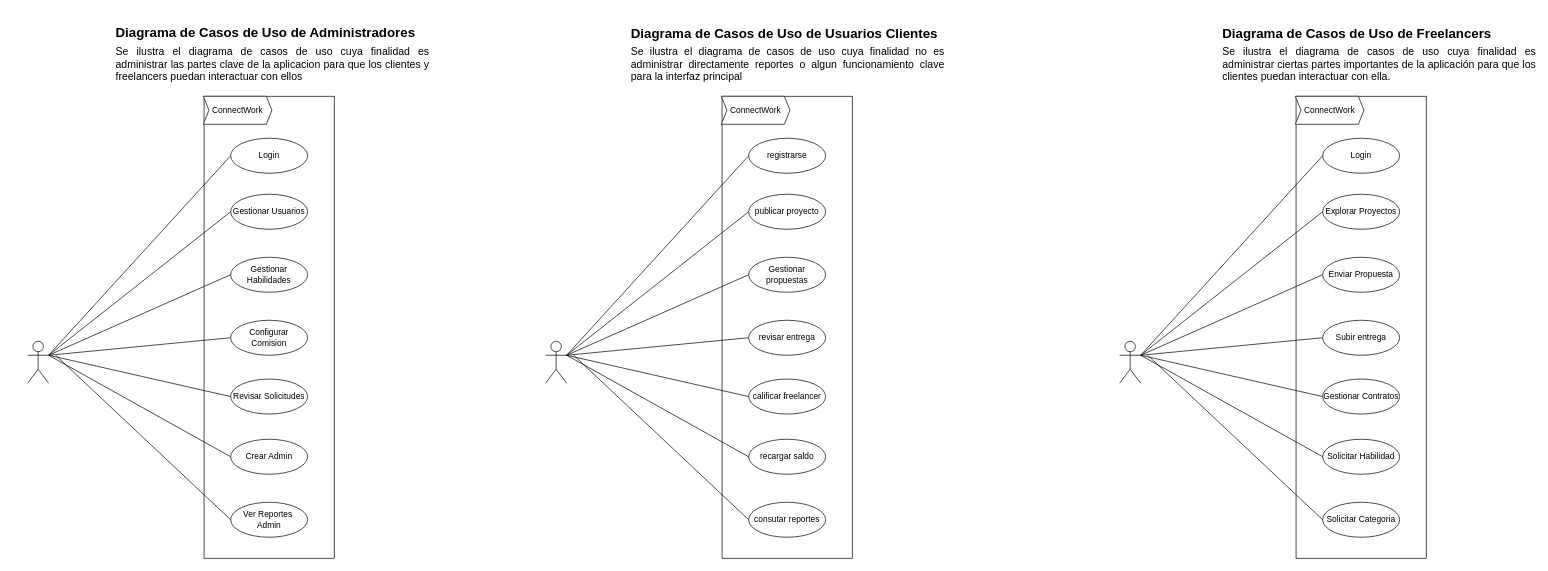
The diagram is 1548 pixels wide and 571 high, and some of its shapes have lost their labels. Each missing label, with the centre of its shape:
"Administrador" belongs at pixel 38 362.
"Cliente" belongs at pixel 556 362.
"Freelancer" belongs at pixel 1130 362.
